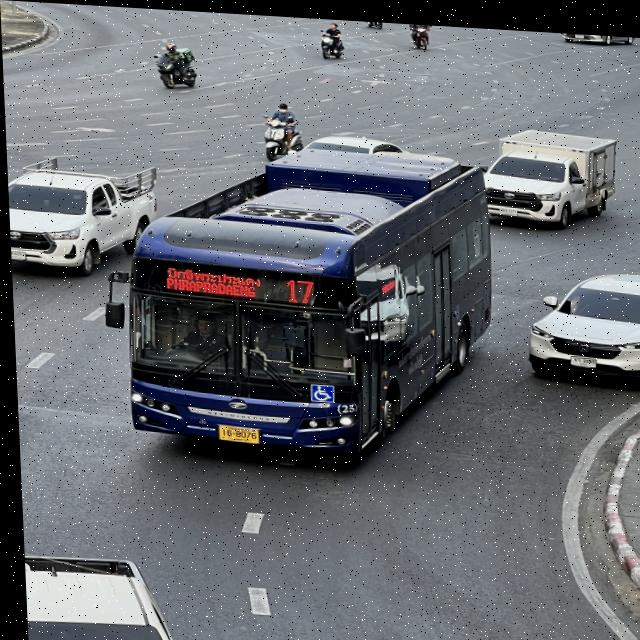Bus-Line-Number: (277, 272, 318, 308)
Destination-Sign-Normal: (154, 262, 263, 300)
TSB-Bus: (116, 128, 498, 462)
